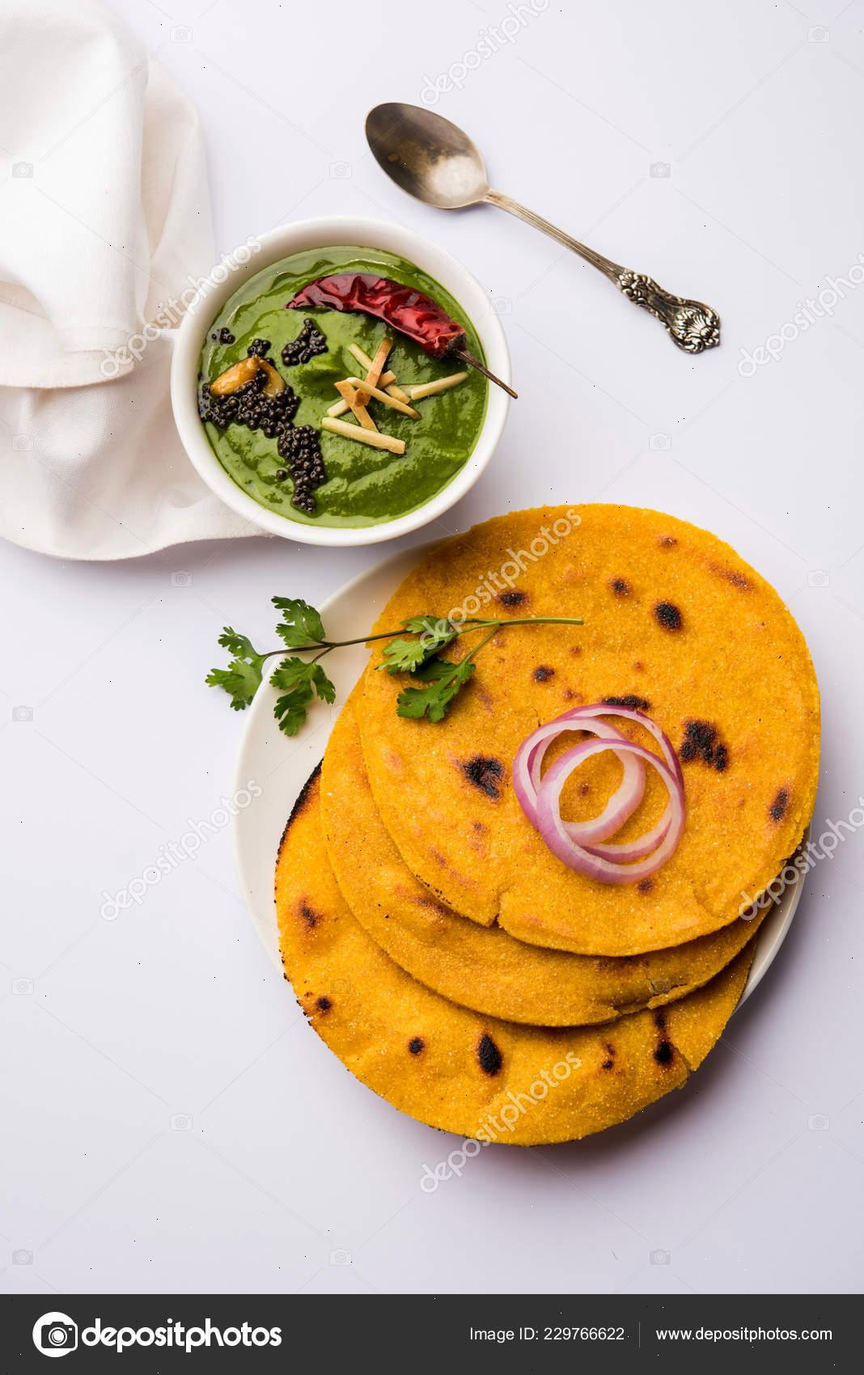saag: (197, 243, 492, 536)
